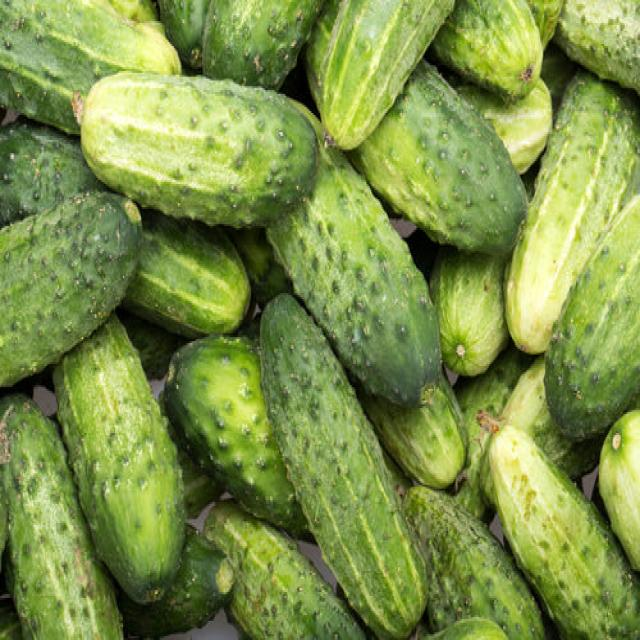Pickle: (260, 296, 426, 638), (269, 137, 441, 407), (54, 314, 185, 603), (505, 73, 640, 353), (81, 71, 316, 225), (351, 60, 528, 254), (490, 425, 640, 638), (165, 337, 308, 537), (0, 191, 142, 386), (544, 195, 640, 439), (405, 487, 544, 640), (319, 0, 454, 149)
